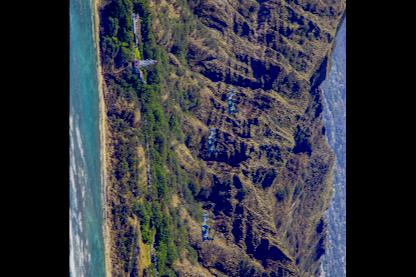Tornado: (201, 212, 216, 245), (208, 126, 223, 159), (228, 86, 239, 116)
